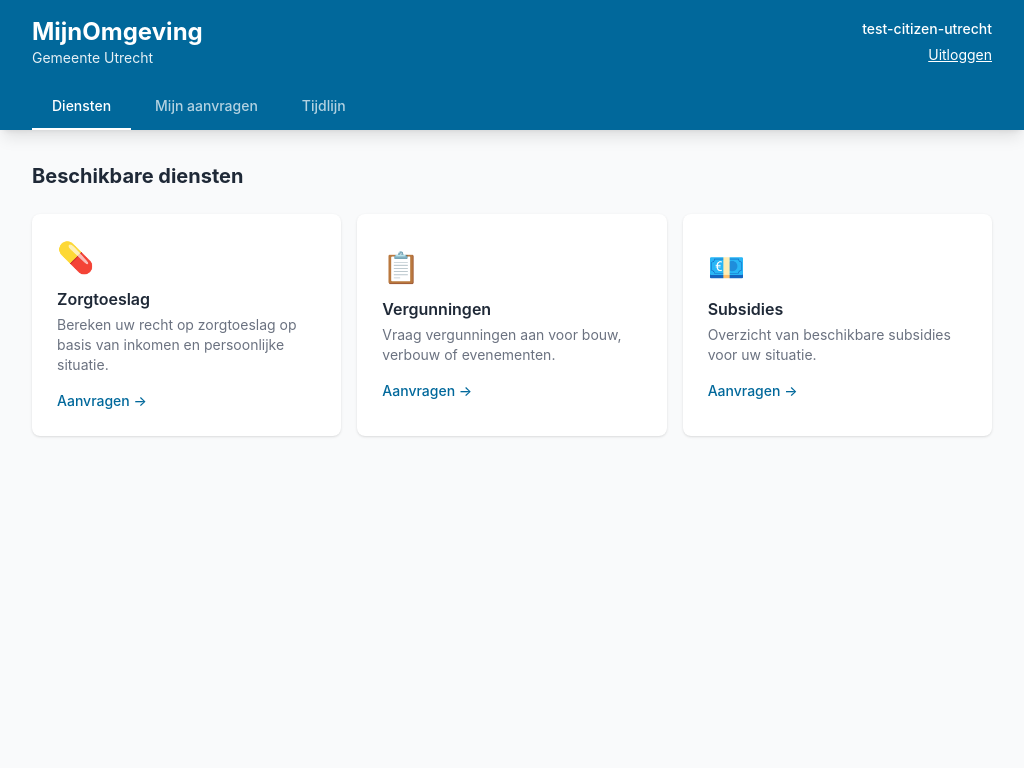
Scenario: Dashboard › the zorgtoeslag calculator evaluates the decision and shows an eligible result
The width and height of the screenshot is (1024, 768).
Click the heading "Zorgtoeslag" at {"x": 104, "y": 299}, box [57,289,150,309]
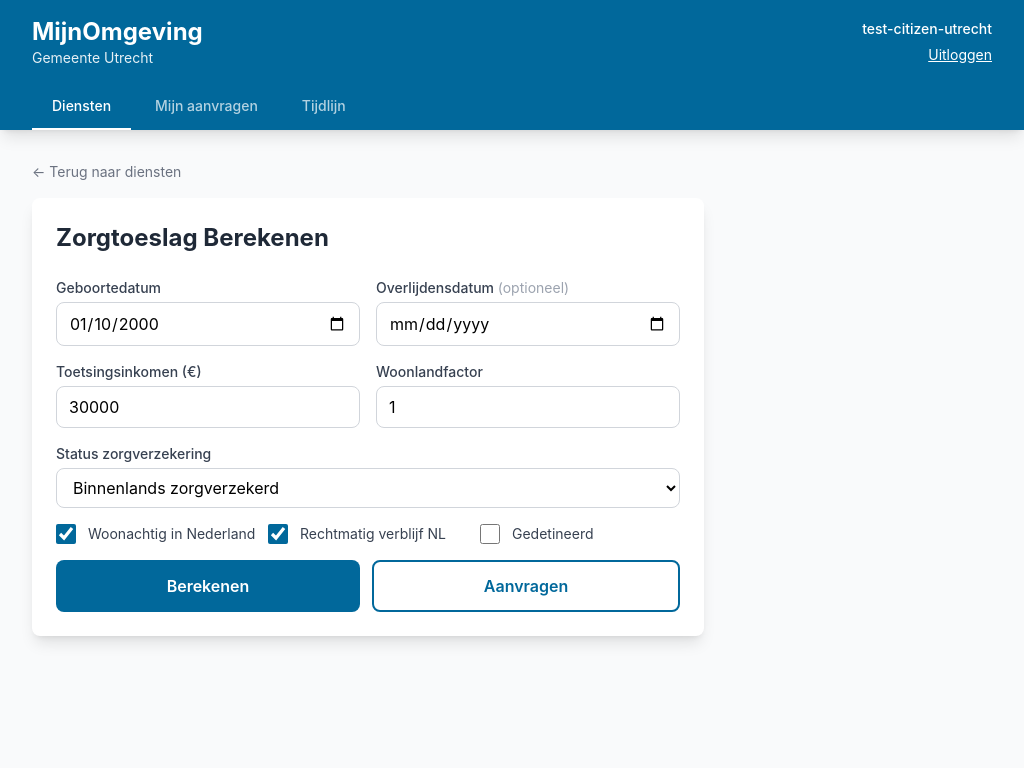
Click the button "Berekenen" at {"x": 208, "y": 586}, box [56,560,360,612]
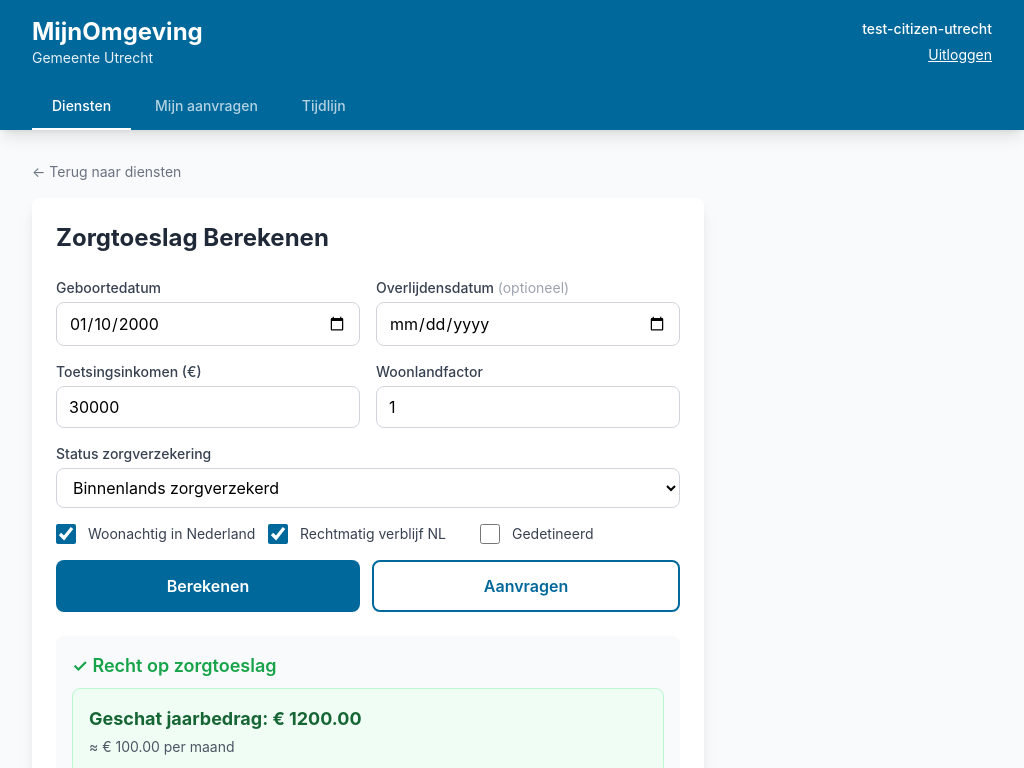
Expected: the heading "✓ Recht op zorgtoeslag" is shown, [72,655,276,676]
